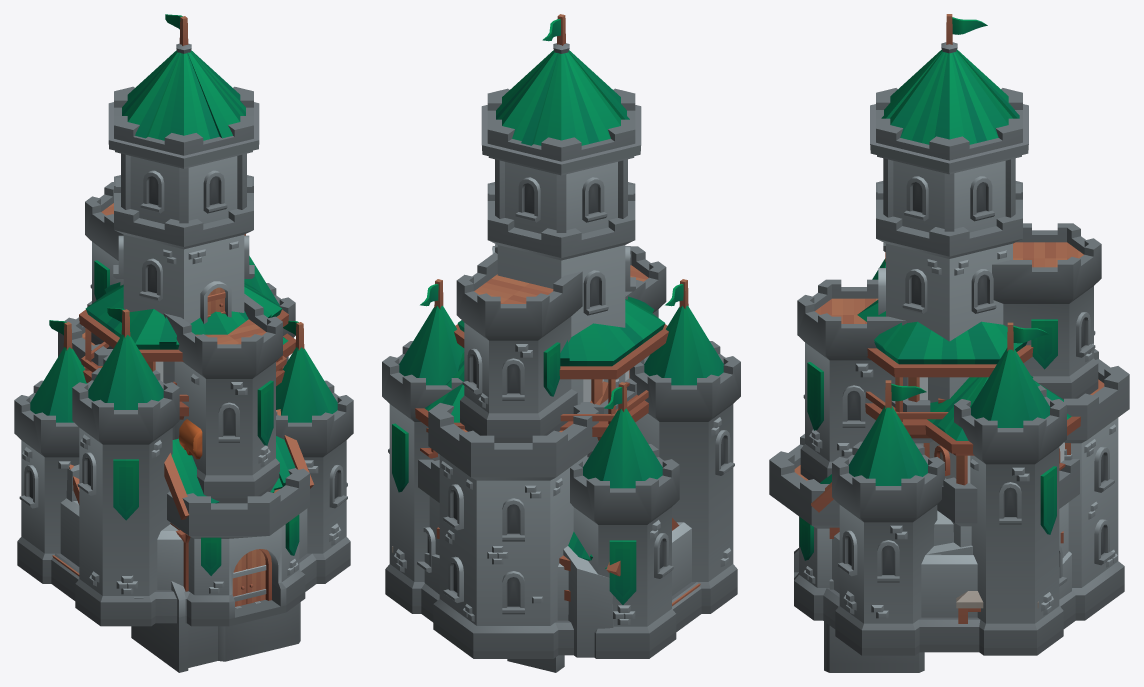
File: jungle.glb
The picture shows the model from 3 angles, left to right: view 1: azimuth 30°, elevation 25°; view 2: azimuth 150°, elevation 25°; view 3: azimuth 270°, elevation 25°; orthographic projection. The views are drawn at different scales.
Parts seen in each view (by area): view 1: building_castle_green, building_watermill_green, building_tower_B_top_green, building_lumbermill_top_green; view 2: building_castle_green, building_tower_B_top_green, building_mine_green, building_archeryrange_green, building_watermill_green; view 3: building_castle_green, building_tower_B_top_green, building_archeryrange_green, building_watermill_green, building_mine_green, building_market_green.
Boxes of the visible parts, left/top/right/bottom form: building_castle_green: left=14, top=14, right=353, bottom=626; building_watermill_green: left=131, top=409, right=313, bottom=672; building_tower_B_top_green: left=79, top=281, right=288, bottom=419; building_lumbermill_top_green: left=179, top=419, right=202, bottom=459; building_castle_green: left=382, top=14, right=740, bottom=658; building_tower_B_top_green: left=454, top=296, right=668, bottom=440; building_mine_green: left=424, top=546, right=613, bottom=657; building_archeryrange_green: left=415, top=352, right=679, bottom=576; building_watermill_green: left=507, top=655, right=564, bottom=672; building_castle_green: left=769, top=14, right=1129, bottom=655; building_tower_B_top_green: left=857, top=300, right=1033, bottom=438; building_archeryrange_green: left=918, top=376, right=1080, bottom=586; building_watermill_green: left=811, top=474, right=924, bottom=672; building_mine_green: left=926, top=510, right=1071, bottom=599; building_market_green: left=956, top=531, right=1063, bottom=623.
Size of the model in its own units: 1.98 by 4.33 by 2.26.
1 material, 1 textured.
